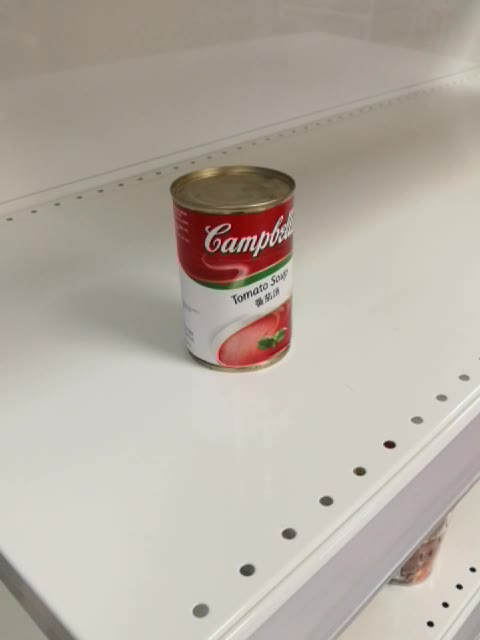tomatosoup: (169, 161, 301, 371)
